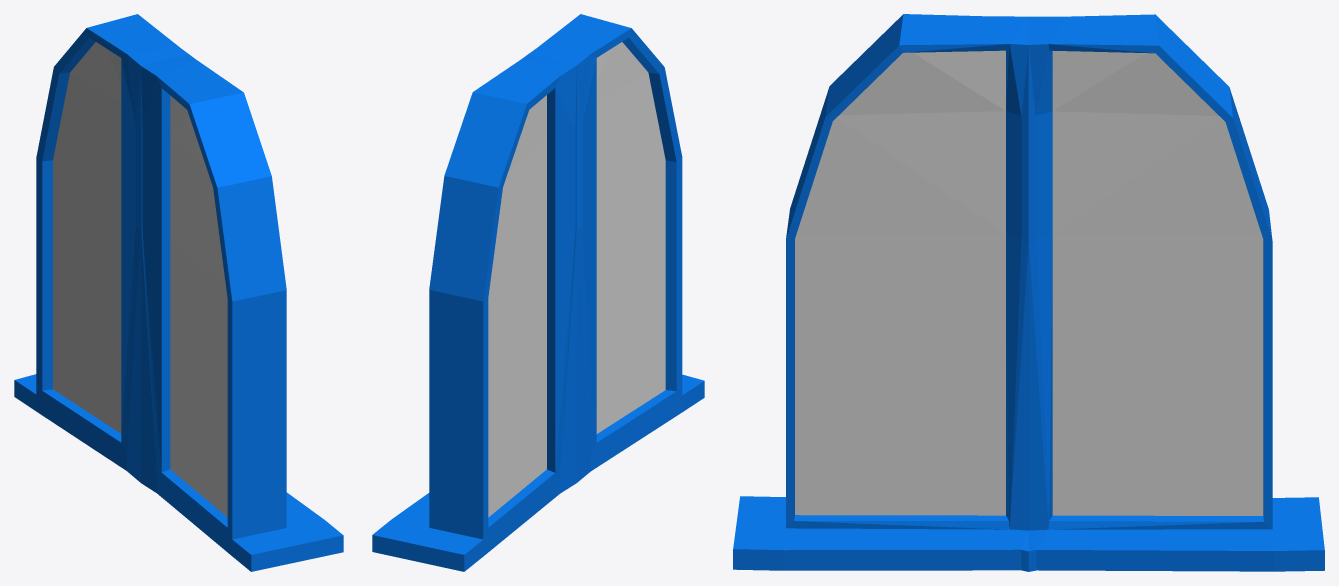
The model's file is window-placeholder.dae.
The picture shows the model from 3 angles, left to right: view 1: azimuth 30°, elevation 25°; view 2: azimuth 150°, elevation 25°; view 3: azimuth 270°, elevation 25°; orthographic projection. The views are drawn at different scales.
Parts seen in each view (by area): view 1: Torre.004; view 2: Torre.004; view 3: Torre.004.
Boxes of the visible parts, left/top/right/bottom form: Torre.004: left=14, top=14, right=343, bottom=571; Torre.004: left=372, top=14, right=704, bottom=571; Torre.004: left=733, top=14, right=1324, bottom=571.
Size of the model in its own units: 1.85 by 8.44 by 7.97.
